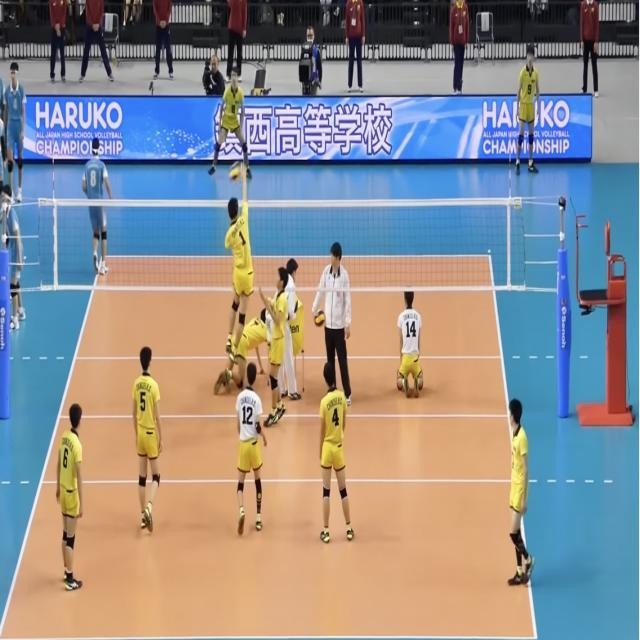spike: (222, 151, 256, 377)
